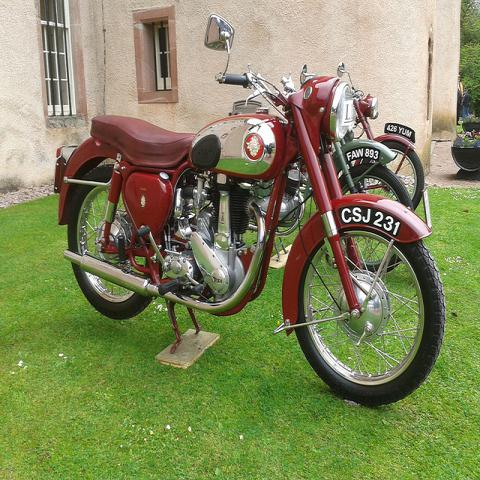motorcycle: (53, 17, 446, 408), (338, 134, 419, 211)
